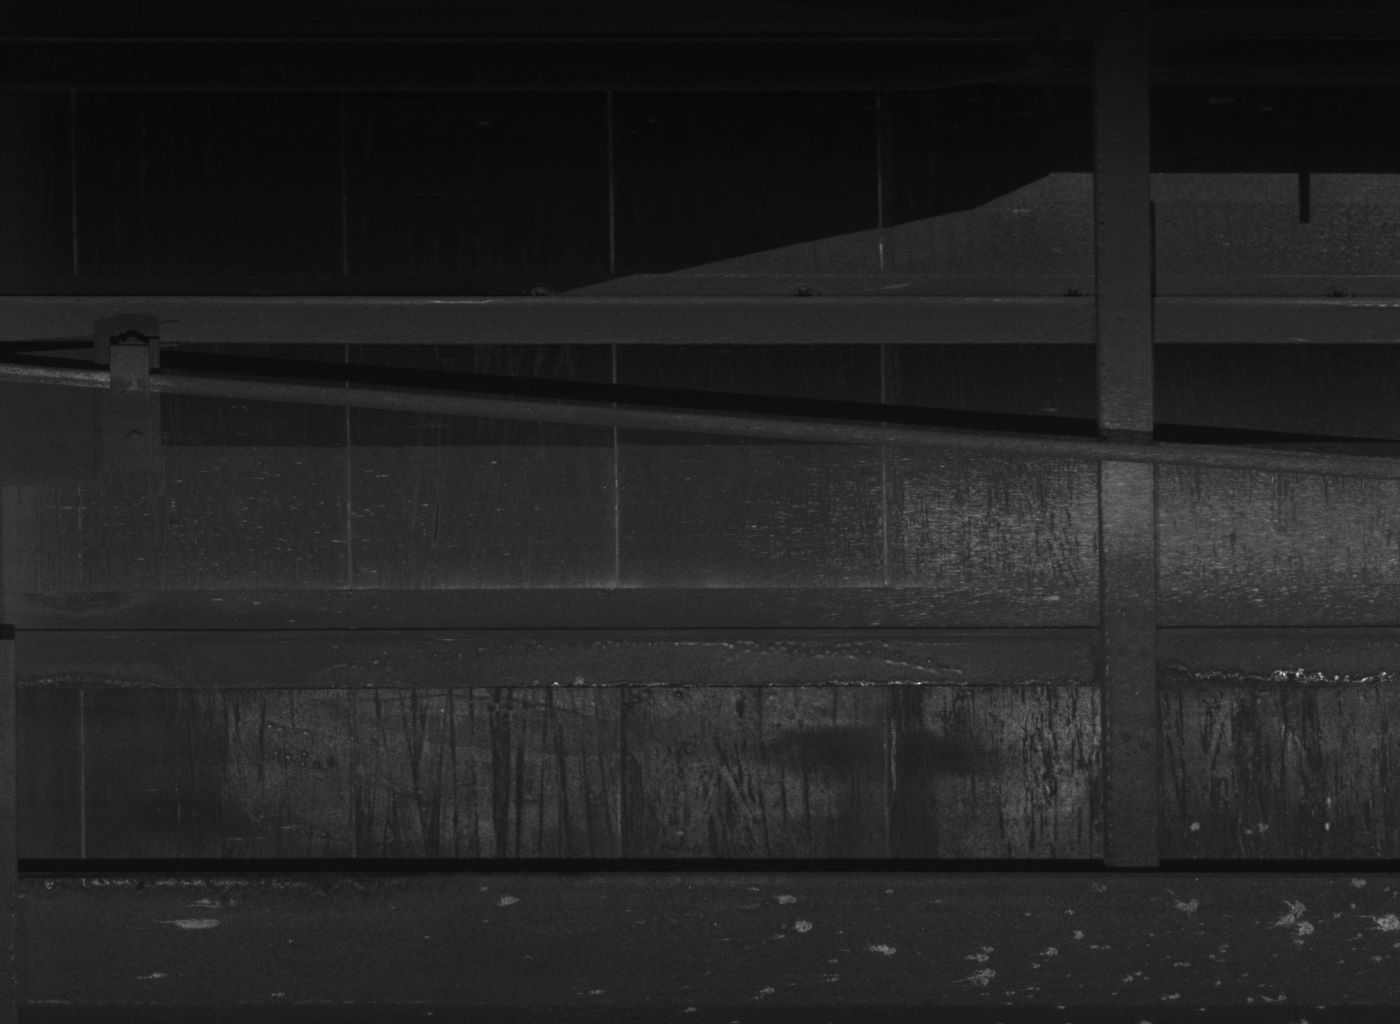normal: (109, 332, 151, 465)
